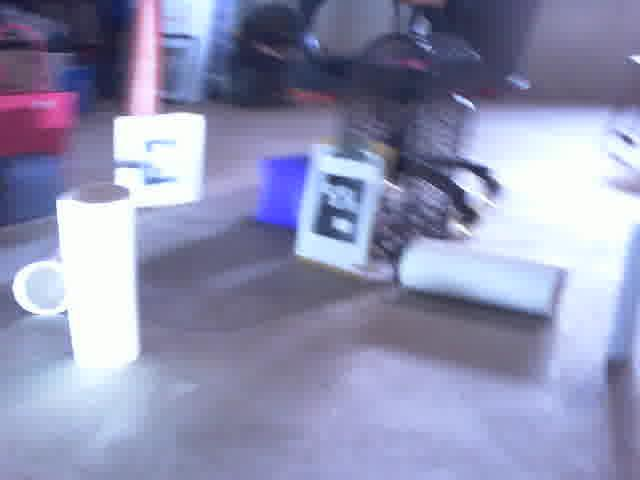coral: (54, 177, 144, 369), (394, 233, 572, 322), (15, 250, 71, 325)
